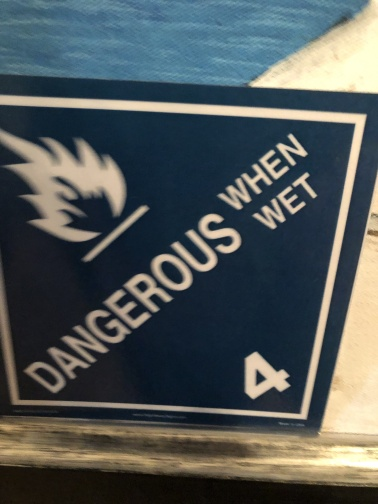DangerousWhenWet: (2, 81, 360, 430)
